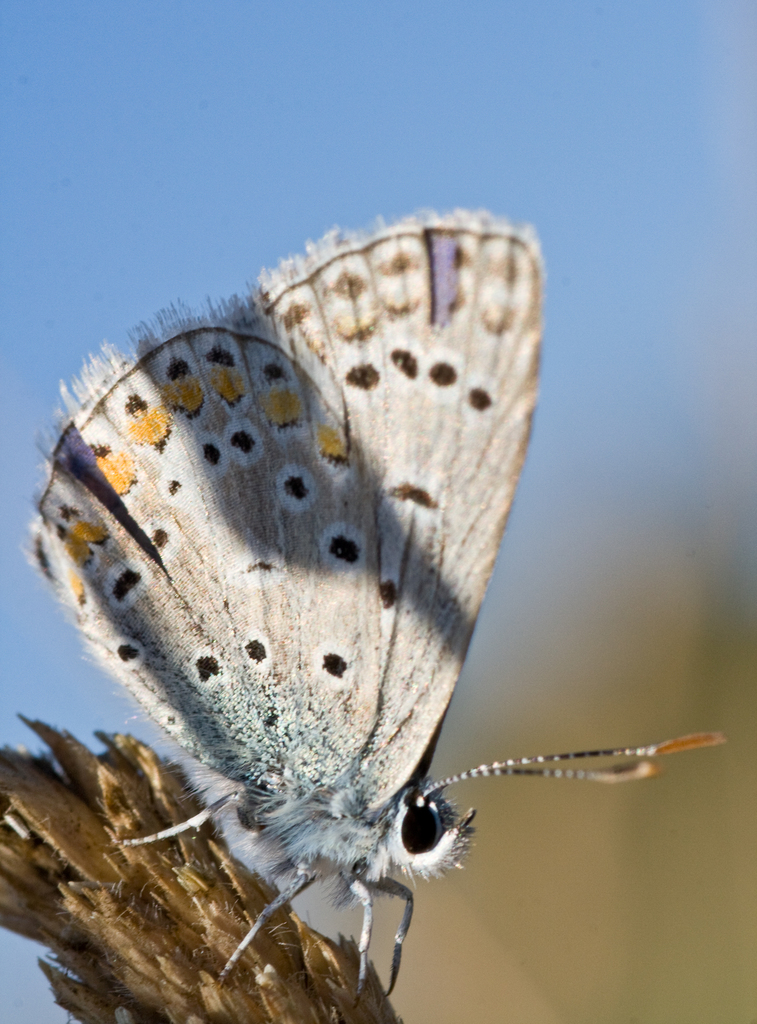Butterfly: (16, 175, 548, 999)
